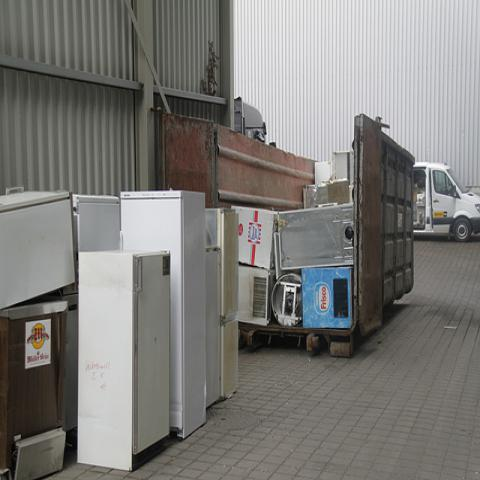truck: (412, 164, 480, 244)
